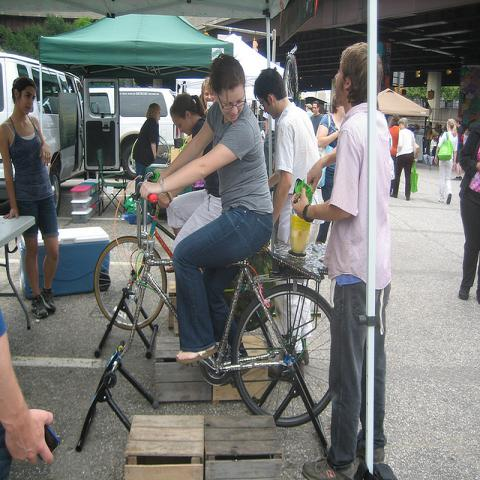car: (89, 88, 180, 178)
truck: (0, 56, 119, 216)
